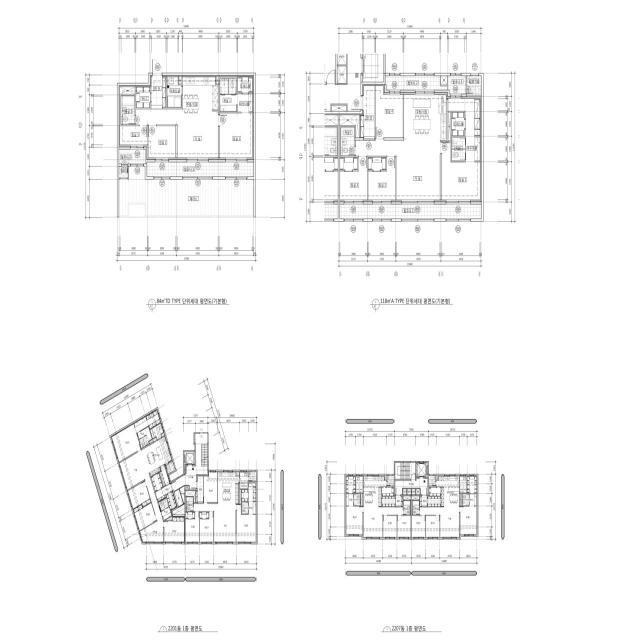space_balconi: (147, 162, 254, 176), (385, 76, 447, 90), (119, 149, 146, 164), (448, 76, 466, 94), (166, 461, 175, 474), (249, 471, 256, 481)
space_bedroom: (442, 142, 481, 202), (220, 113, 254, 160), (376, 85, 403, 138), (368, 157, 395, 202), (340, 157, 367, 202), (111, 423, 141, 462), (147, 126, 175, 160), (237, 504, 256, 543), (127, 481, 151, 509), (133, 503, 156, 531), (119, 126, 147, 147), (164, 517, 185, 543), (460, 506, 477, 535), (346, 506, 363, 535), (200, 512, 213, 543), (186, 512, 199, 543), (204, 471, 217, 502), (383, 516, 397, 538), (397, 516, 411, 538), (426, 516, 440, 538), (412, 516, 425, 538), (368, 157, 386, 170), (340, 157, 357, 170), (200, 512, 209, 518), (186, 512, 194, 518)
space_dressroom: (448, 97, 481, 136), (466, 137, 481, 161), (146, 409, 161, 429), (238, 94, 254, 112), (238, 76, 254, 93), (452, 113, 464, 135), (467, 475, 477, 493), (346, 475, 355, 493), (249, 483, 256, 501), (242, 490, 248, 501)
space_elevator: (363, 54, 383, 82), (416, 463, 428, 477), (184, 452, 195, 465)
space_elevator_hall: (324, 54, 361, 111), (171, 434, 207, 491), (395, 479, 428, 494)
space_front: (360, 85, 375, 138), (150, 76, 166, 109), (136, 86, 150, 108), (155, 483, 172, 501), (151, 473, 163, 491), (166, 491, 177, 510), (196, 476, 203, 503), (428, 496, 441, 506), (382, 497, 395, 506), (396, 496, 403, 506), (420, 496, 427, 506)
space_kitchen: (404, 93, 448, 142), (183, 76, 218, 112), (142, 436, 172, 476), (364, 475, 387, 507), (436, 475, 459, 507), (218, 471, 239, 504), (382, 487, 394, 496), (429, 488, 441, 496)
space_living_room: (356, 140, 440, 202), (136, 109, 218, 159), (119, 450, 163, 543), (194, 504, 236, 543), (420, 507, 460, 538), (363, 507, 403, 538)
space_multipurpose_space: (167, 76, 181, 107)
space_other: (340, 114, 359, 138), (159, 465, 170, 487), (150, 423, 164, 440), (174, 489, 183, 507), (240, 471, 249, 489), (337, 66, 346, 83), (173, 504, 185, 515), (119, 86, 135, 94), (356, 475, 363, 493), (460, 475, 467, 493), (186, 490, 195, 502), (337, 54, 346, 65), (180, 486, 185, 503), (332, 105, 346, 111), (441, 76, 447, 85), (149, 437, 157, 443), (403, 496, 411, 500), (165, 516, 172, 520), (412, 496, 419, 500), (179, 76, 182, 84), (216, 76, 219, 84), (361, 494, 363, 506), (460, 494, 462, 506), (412, 489, 416, 494), (407, 489, 411, 494), (416, 489, 420, 494), (403, 489, 407, 494), (161, 433, 165, 437), (184, 466, 186, 474), (236, 471, 239, 476), (240, 490, 241, 504), (185, 486, 189, 489), (436, 476, 438, 480)
space_outdoor_room: (467, 76, 481, 95), (119, 166, 128, 178), (387, 475, 394, 486), (429, 475, 435, 486)
space_staircase: (395, 463, 415, 479), (201, 444, 207, 466)
space_toilet: (121, 96, 135, 124), (341, 127, 355, 155), (137, 427, 152, 448), (220, 94, 237, 111), (134, 416, 148, 433), (452, 137, 465, 149), (452, 149, 465, 161), (228, 78, 237, 94), (161, 507, 172, 520), (220, 78, 228, 94), (412, 501, 419, 515), (186, 497, 193, 511), (469, 494, 477, 506), (346, 494, 353, 506), (249, 502, 256, 514), (404, 501, 410, 515), (159, 500, 165, 511), (163, 498, 169, 509), (462, 494, 469, 500), (242, 502, 248, 508), (242, 508, 248, 514), (462, 500, 469, 505), (354, 500, 360, 505), (354, 494, 360, 499)
